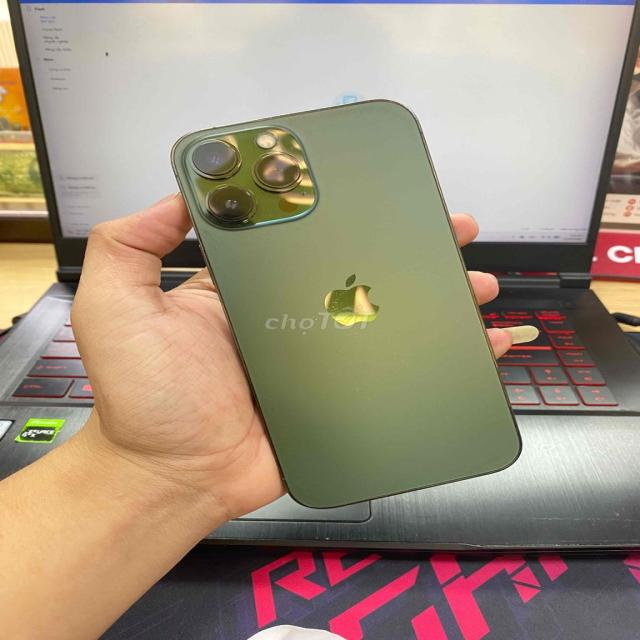gen_12_13: (160, 93, 533, 521)
